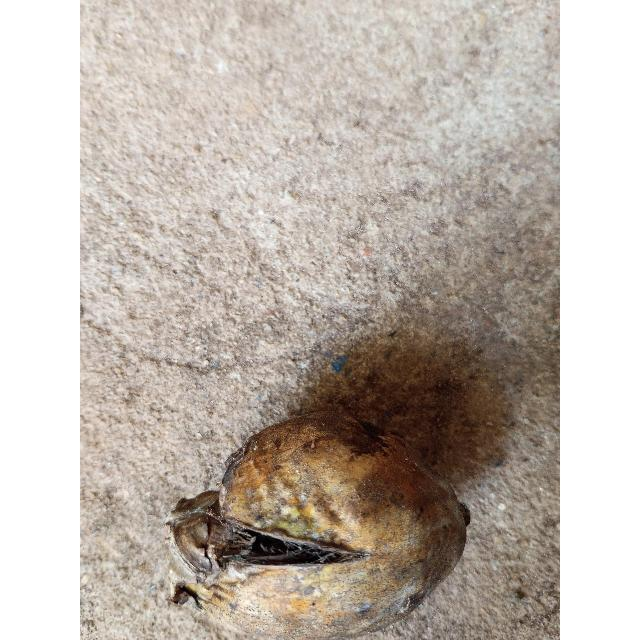damaged: (167, 412, 469, 640)
